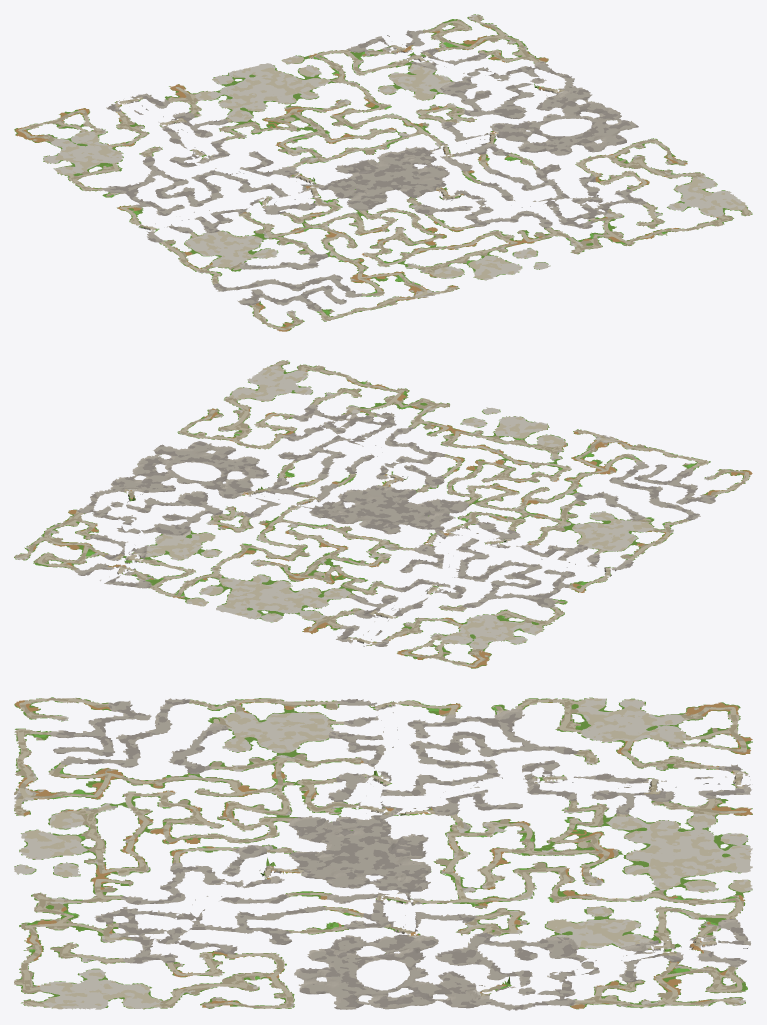
The model's file is Dungeon-2-Ground.fbx.
3 views of the same model, one above another, from view 1: azimuth 30°, elevation 25°; view 2: azimuth 150°, elevation 25°; view 3: azimuth 270°, elevation 25° (orthographic). The views are drawn at different scales.
Visible parts, largest first — view 1: Dungeon-2-Ground-c33, Dungeon-2-Ground-c06, Dungeon-2-Ground-c47, Dungeon-2-Ground-c43, Dungeon-2-Ground-c36, Dungeon-2-Ground-c37, Dungeon-2-Ground-c74, Dungeon-2-Ground-c70, Dungeon-2-Ground-c30, Dungeon-2-Ground-c02, Dungeon-2-Ground-c44, Dungeon-2-Ground-c73 (+52 smaller); view 2: Dungeon-2-Ground-c33, Dungeon-2-Ground-c06, Dungeon-2-Ground-c47, Dungeon-2-Ground-c43, Dungeon-2-Ground-c36, Dungeon-2-Ground-c37, Dungeon-2-Ground-c74, Dungeon-2-Ground-c70, Dungeon-2-Ground-c30, Dungeon-2-Ground-c02, Dungeon-2-Ground-c73, Dungeon-2-Ground-c44 (+52 smaller); view 3: Dungeon-2-Ground-c33, Dungeon-2-Ground-c06, Dungeon-2-Ground-c47, Dungeon-2-Ground-c43, Dungeon-2-Ground-c37, Dungeon-2-Ground-c36, Dungeon-2-Ground-c70, Dungeon-2-Ground-c30, Dungeon-2-Ground-c74, Dungeon-2-Ground-c02, Dungeon-2-Ground-c44, Dungeon-2-Ground-c73 (+52 smaller).
Boxes of the visible parts, x1=… form: Dungeon-2-Ground-c33: x1=318, y1=173, x2=414, y2=212; Dungeon-2-Ground-c06: x1=43, y1=139, x2=119, y2=178; Dungeon-2-Ground-c47: x1=239, y1=55, x2=334, y2=94; Dungeon-2-Ground-c43: x1=380, y1=158, x2=474, y2=197; Dungeon-2-Ground-c36: x1=222, y1=94, x2=308, y2=133; Dungeon-2-Ground-c37: x1=178, y1=70, x2=273, y2=107; Dungeon-2-Ground-c74: x1=536, y1=88, x2=620, y2=120; Dungeon-2-Ground-c70: x1=670, y1=191, x2=752, y2=228; Dungeon-2-Ground-c30: x1=427, y1=250, x2=516, y2=288; Dungeon-2-Ground-c02: x1=178, y1=242, x2=266, y2=281; Dungeon-2-Ground-c44: x1=347, y1=132, x2=435, y2=172; Dungeon-2-Ground-c73: x1=574, y1=114, x2=655, y2=151; Dungeon-2-Ground-c33: x1=381, y1=490, x2=471, y2=530; Dungeon-2-Ground-c06: x1=458, y1=612, x2=548, y2=644; Dungeon-2-Ground-c47: x1=185, y1=577, x2=275, y2=616; Dungeon-2-Ground-c43: x1=325, y1=476, x2=415, y2=516; Dungeon-2-Ground-c36: x1=277, y1=567, x2=366, y2=604; Dungeon-2-Ground-c37: x1=244, y1=592, x2=327, y2=631; Dungeon-2-Ground-c74: x1=111, y1=458, x2=189, y2=492; Dungeon-2-Ground-c70: x1=247, y1=360, x2=335, y2=394; Dungeon-2-Ground-c30: x1=486, y1=416, x2=579, y2=451; Dungeon-2-Ground-c02: x1=597, y1=510, x2=685, y2=546; Dungeon-2-Ground-c73: x1=145, y1=432, x2=233, y2=465; Dungeon-2-Ground-c44: x1=287, y1=502, x2=380, y2=539; Dungeon-2-Ground-c33: x1=289, y1=814, x2=383, y2=854; Dungeon-2-Ground-c06: x1=569, y1=697, x2=663, y2=736; Dungeon-2-Ground-c47: x1=661, y1=853, x2=752, y2=893; Dungeon-2-Ground-c43: x1=290, y1=853, x2=383, y2=892; Dungeon-2-Ground-c37: x1=661, y1=813, x2=752, y2=853; Dungeon-2-Ground-c36: x1=569, y1=813, x2=663, y2=853; Dungeon-2-Ground-c70: x1=14, y1=971, x2=105, y2=1009; Dungeon-2-Ground-c30: x1=16, y1=813, x2=105, y2=853; Dungeon-2-Ground-c74: x1=383, y1=971, x2=477, y2=1009; Dungeon-2-Ground-c02: x1=197, y1=698, x2=291, y2=736; Dungeon-2-Ground-c44: x1=382, y1=853, x2=477, y2=894; Dungeon-2-Ground-c73: x1=289, y1=971, x2=383, y2=1009.
Bounding box in the file's own units: 131 × 1.7 × 131.
